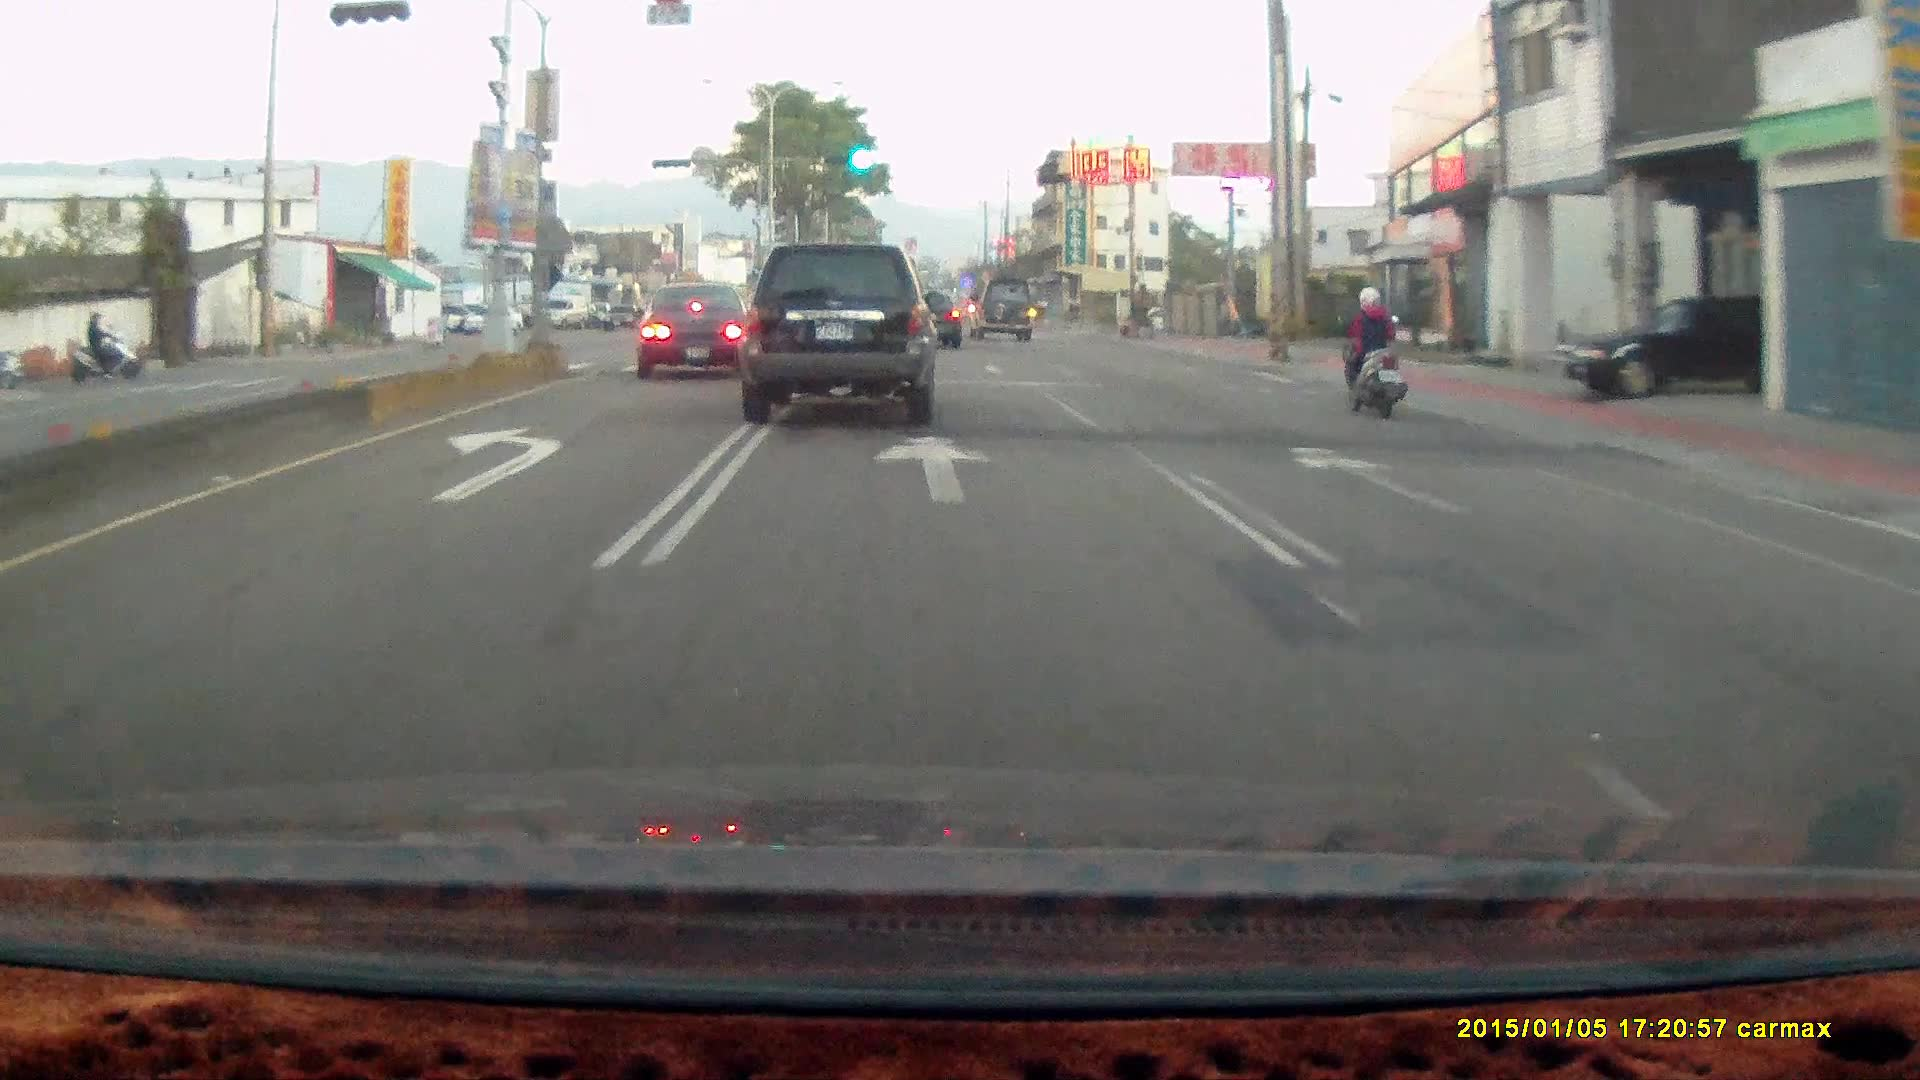rider: (1325, 274, 1420, 428), (1331, 286, 1404, 418), (40, 296, 147, 381)
vehicle: (740, 235, 946, 424), (740, 241, 943, 422), (1551, 292, 1849, 400), (1564, 294, 1773, 402), (636, 279, 759, 383), (635, 278, 757, 377), (887, 288, 963, 349), (968, 277, 1035, 343), (895, 289, 964, 351), (967, 277, 1034, 339), (459, 302, 523, 336), (528, 297, 585, 329), (601, 304, 642, 330)
